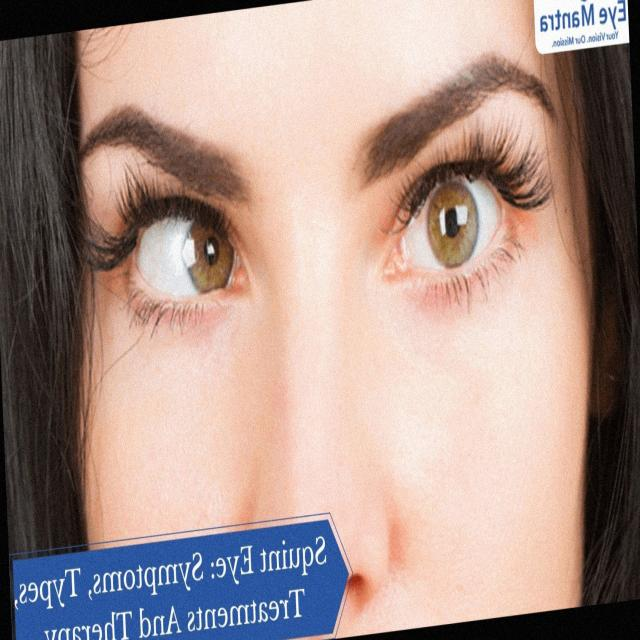Healthy-Eye: (376, 151, 552, 330)
Squint: (110, 166, 277, 361)
